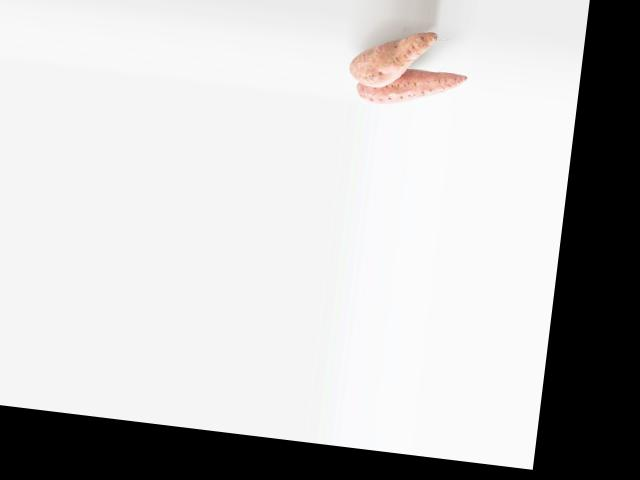sweet_potato: (355, 61, 460, 111)
